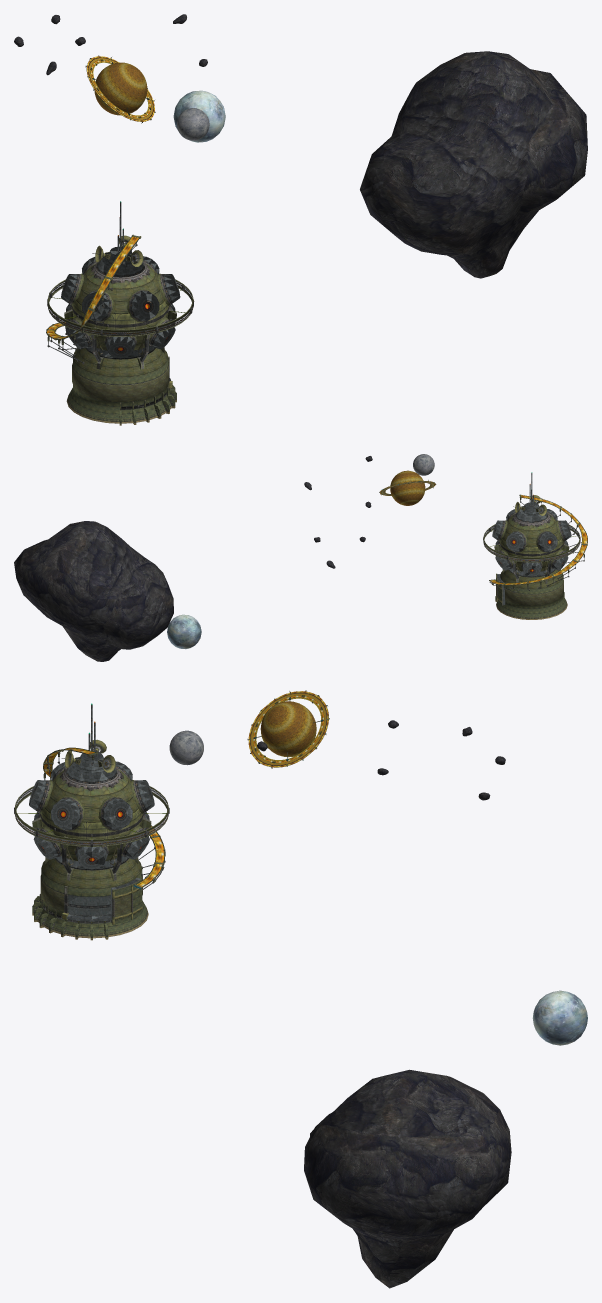
Rendered from stg610_18.obj.
The picture shows the model from 3 angles, top to bottom: view 1: azimuth 30°, elevation 25°; view 2: azimuth 150°, elevation 25°; view 3: azimuth 270°, elevation 25°; orthographic projection. The views are drawn at different scales.
Visible parts, largest first — view 1: polygon42, polygon77, polygon2, polygon1, polygon8, polygon67, polygon5, polygon65, polygon3, polygon68, polygon76, polygon43 (+5 smaller); view 2: polygon42, polygon77, polygon2, polygon1, polygon65, polygon3, polygon67, polygon8, polygon5, polygon28, polygon68, polygon4 (+5 smaller); view 3: polygon42, polygon77, polygon2, polygon65, polygon1, polygon3, polygon67, polygon5, polygon68, polygon4, polygon76, polygon43 (+4 smaller).
Part boxes in pixels (bbox=[...]): polygon42: bbox=[360, 51, 587, 278]; polygon77: bbox=[61, 256, 180, 358]; polygon2: bbox=[73, 271, 168, 377]; polygon1: bbox=[68, 358, 176, 421]; polygon8: bbox=[72, 365, 168, 402]; polygon67: bbox=[94, 62, 146, 115]; polygon5: bbox=[71, 301, 172, 402]; polygon65: bbox=[173, 90, 225, 142]; polygon3: bbox=[85, 202, 170, 380]; polygon68: bbox=[47, 281, 193, 335]; polygon76: bbox=[70, 261, 171, 345]; polygon43: bbox=[177, 108, 209, 140]; polygon42: bbox=[14, 521, 173, 661]; polygon77: bbox=[492, 509, 571, 576]; polygon2: bbox=[500, 518, 563, 589]; polygon1: bbox=[495, 576, 566, 617]; polygon65: bbox=[167, 614, 201, 649]; polygon3: bbox=[497, 473, 554, 605]; polygon67: bbox=[390, 470, 425, 505]; polygon8: bbox=[496, 582, 563, 605]; polygon5: bbox=[496, 538, 564, 605]; polygon28: bbox=[490, 495, 587, 584]; polygon68: bbox=[483, 525, 580, 561]; polygon4: bbox=[496, 513, 554, 605]; polygon42: bbox=[304, 1069, 511, 1288]; polygon77: bbox=[29, 761, 154, 869]; polygon2: bbox=[41, 777, 142, 889]; polygon65: bbox=[532, 990, 587, 1045]; polygon1: bbox=[32, 869, 146, 935]; polygon3: bbox=[54, 704, 140, 922]; polygon67: bbox=[260, 701, 316, 757]; polygon5: bbox=[40, 808, 143, 924]; polygon68: bbox=[14, 787, 169, 845]; polygon4: bbox=[55, 768, 141, 889]; polygon76: bbox=[38, 767, 144, 856]; polygon43: bbox=[169, 730, 203, 765].
Size of the model in its own units: 4793 by 2357 by 3324.
Materials: 34 (34 with a texture image).
